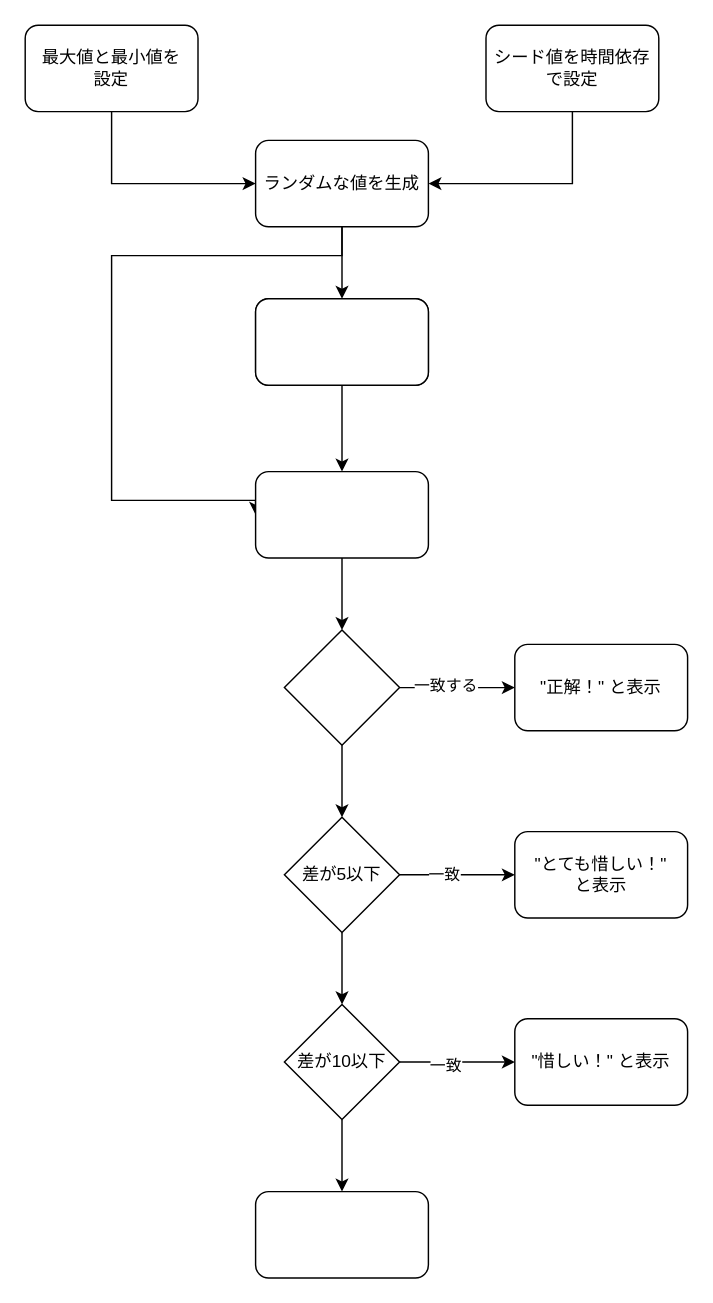
Image size: 713x1303. Some labels were removed from this diagram. Here are the shapes that lost their labels. From the top down, the centre of each, then its label:
[341,341]: ユーザー入力を 求める
[341,514]: ユーザー入力と ランダムな値の差を求める
[341,687]: ユーザー 入力と比較
[341,1234]: "残念！" と表示
